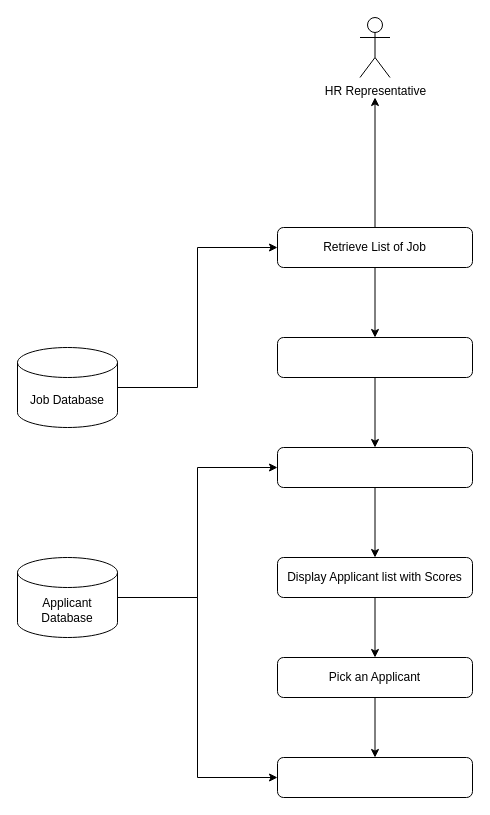
The diagram is 490 pixels wide and 815 high, and some of its shapes have lost their labels. The centre of each missing label's shape, as x and y in pixels:
"Display Applicant Details" belongs at (x=374, y=777).
"Pick a Job to review applicants" belongs at (x=374, y=357).
"Retrieve Applicants for the Job" belongs at (x=374, y=467).
